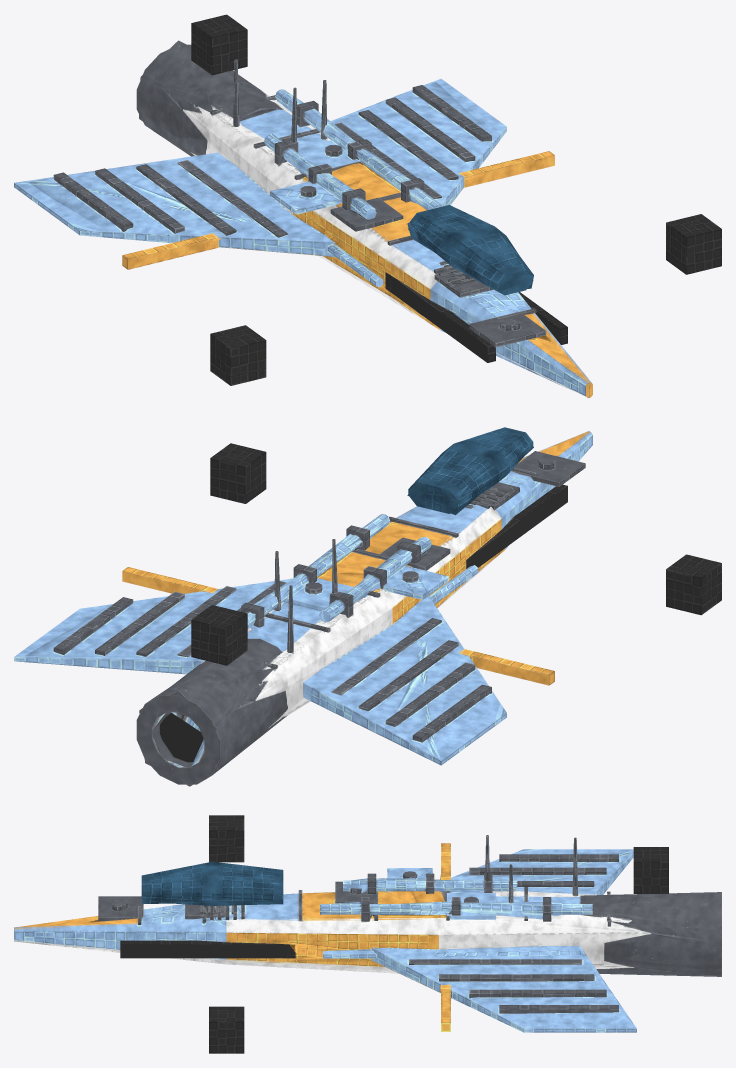
Rendered from sd_npc_courier.glb.
The picture shows the model from 3 angles, top to bottom: view 1: azimuth 30°, elevation 25°; view 2: azimuth 150°, elevation 25°; view 3: azimuth 270°, elevation 25°; orthographic projection. The views are drawn at different scales.
Visible parts, largest first — view 1: LOD0_body, LOD1_body; view 2: LOD0_body, LOD1_body; view 3: LOD0_body, LOD1_body.
Part boxes in pixels (x1=…): LOD0_body: x1=14, y1=14, x2=721, y2=397; LOD1_body: x1=28, y1=15, x2=721, y2=395; LOD0_body: x1=14, y1=427, x2=721, y2=784; LOD1_body: x1=14, y1=431, x2=721, y2=786; LOD0_body: x1=14, y1=815, x2=721, y2=1053; LOD1_body: x1=14, y1=815, x2=721, y2=1053.
Size of the model in its own units: 0.69 by 0.2016 by 1.
Materials: 1 (1 with a texture image).
